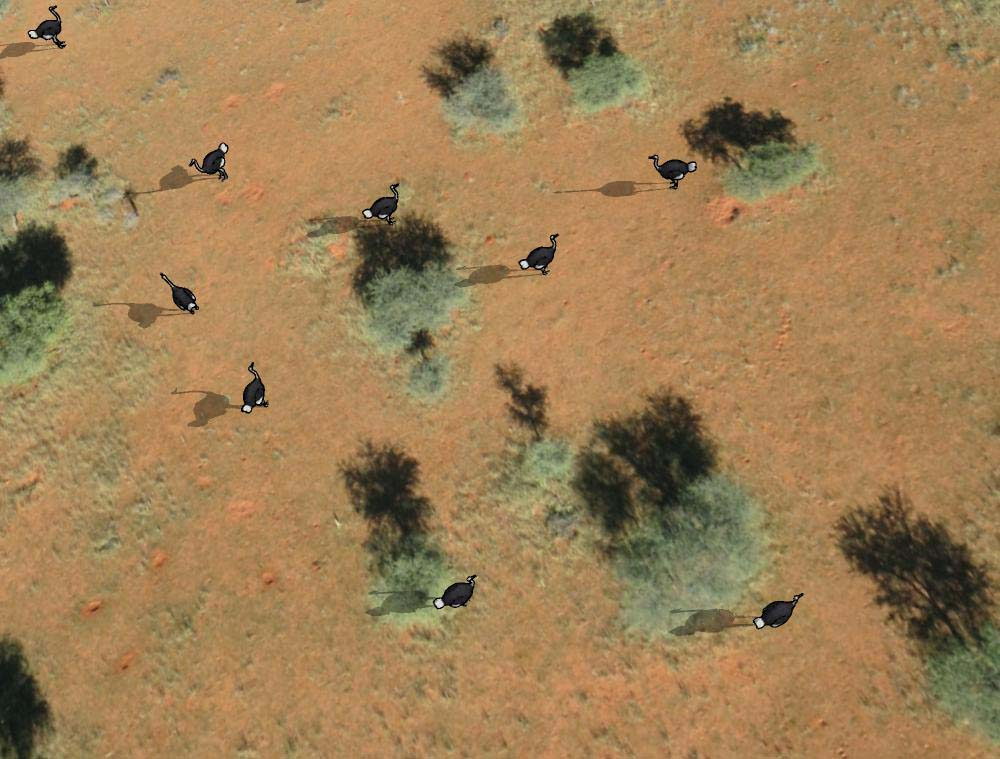springbok: (25, 3, 69, 56), (231, 363, 274, 417), (750, 591, 808, 631), (647, 151, 698, 193), (516, 234, 565, 277), (186, 139, 235, 182), (431, 569, 479, 611), (159, 269, 200, 317), (361, 183, 405, 224)
